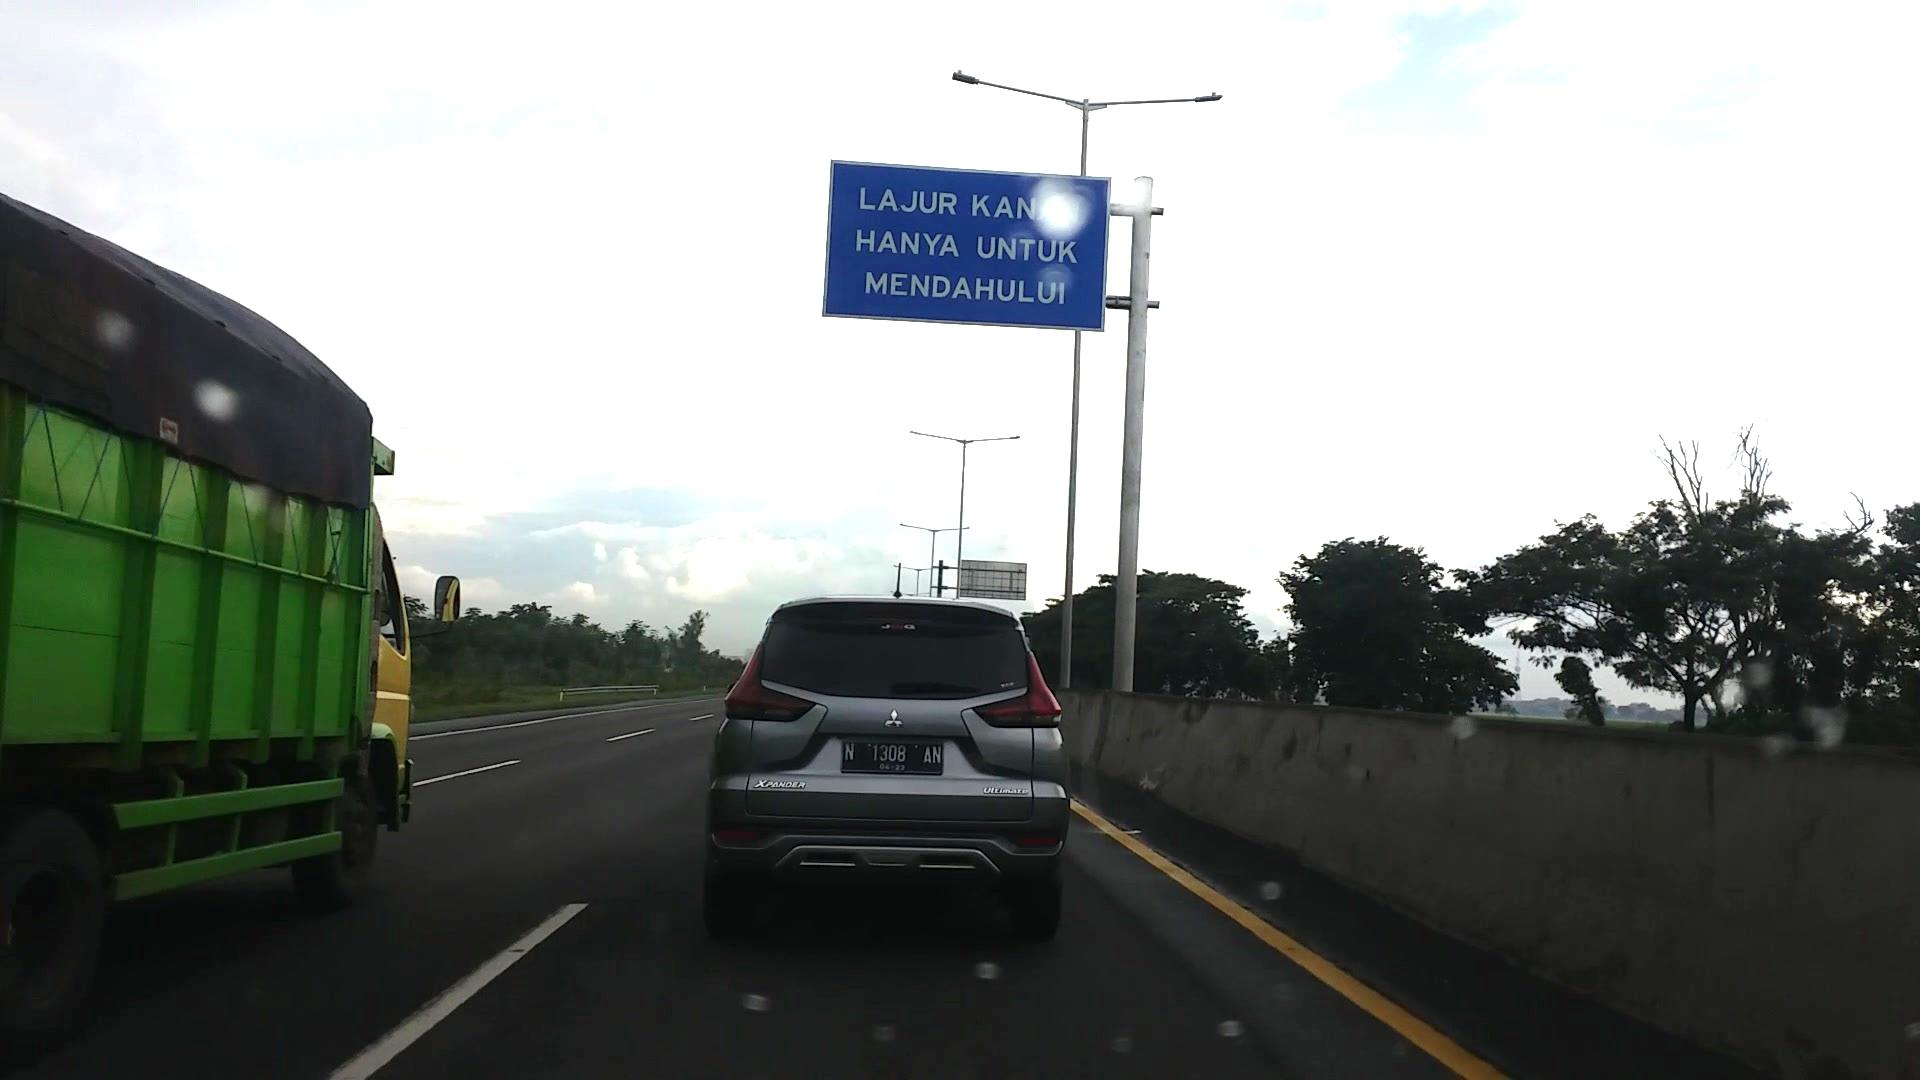plate_positive: (841, 740, 943, 775)
